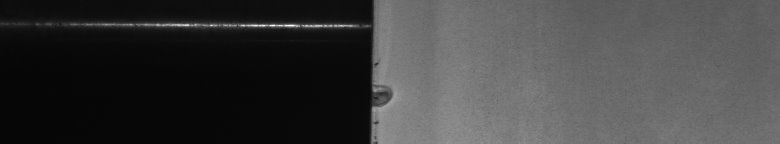hb: (380, 80, 400, 112)
